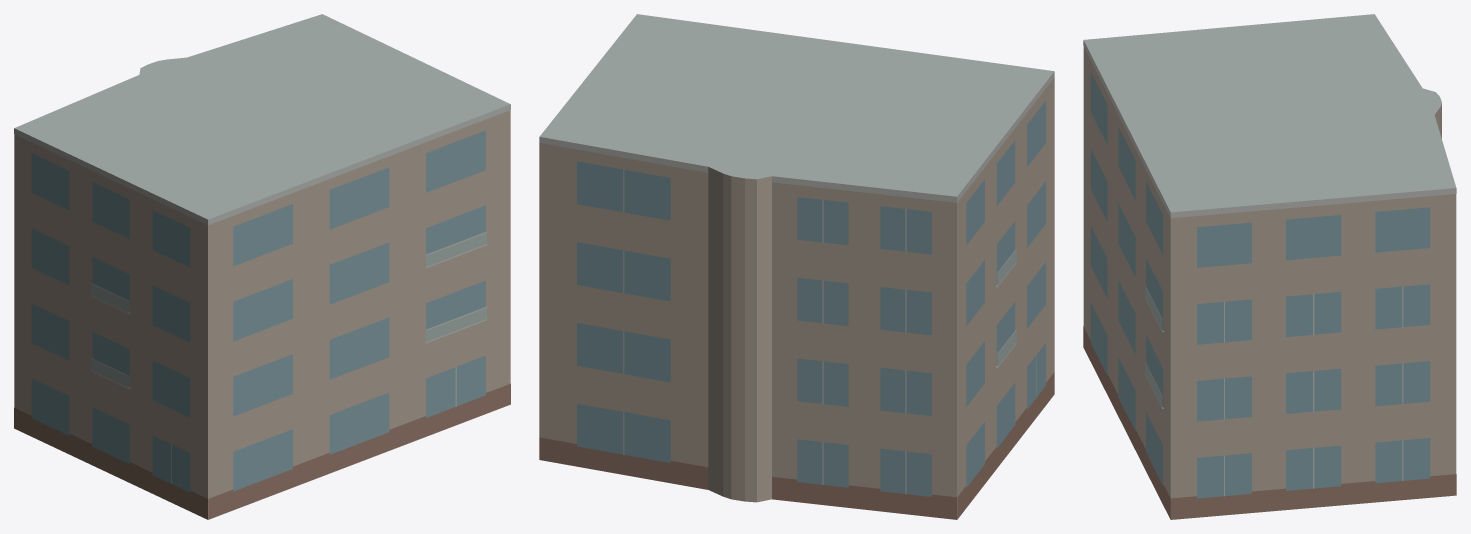
File: survey-upis-32712840.glb
3 views of the same model, side by side, from view 1: azimuth 30°, elevation 25°; view 2: azimuth 150°, elevation 25°; view 3: azimuth 270°, elevation 25° (orthographic). The views are drawn at different scales.
Visible parts, largest first — view 1: survey-upis-32712840.tmp; view 2: survey-upis-32712840.tmp; view 3: survey-upis-32712840.tmp.
Part boxes in pixels (x1,y1,x2,y2): survey-upis-32712840.tmp: [14, 14, 510, 519]; survey-upis-32712840.tmp: [539, 14, 1054, 519]; survey-upis-32712840.tmp: [1083, 14, 1456, 519].
Bounding box in the file's own units: 17.72 × 12.8 × 14.08.
